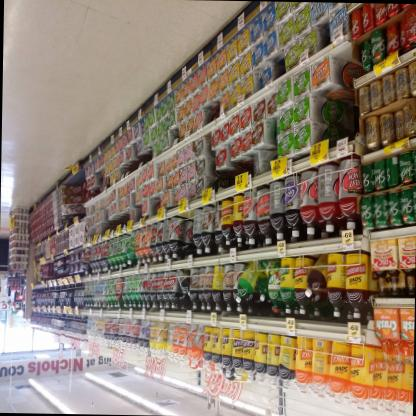empty_space: (63, 167, 85, 186)
